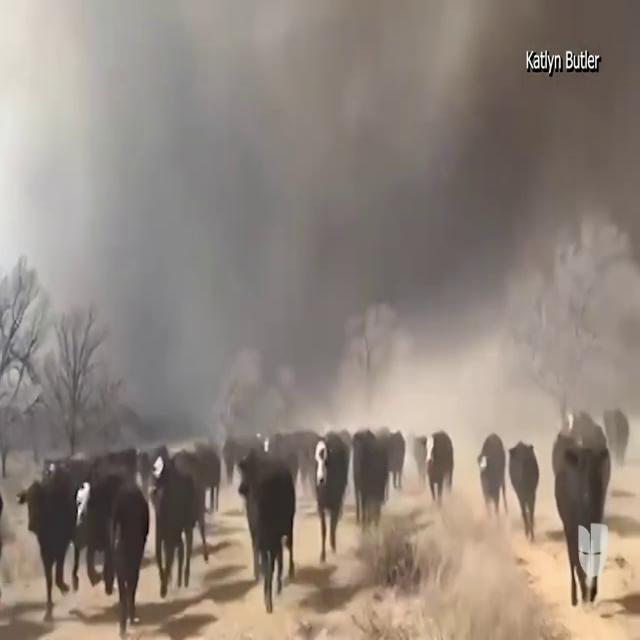Smoke: (3, 2, 640, 442)
